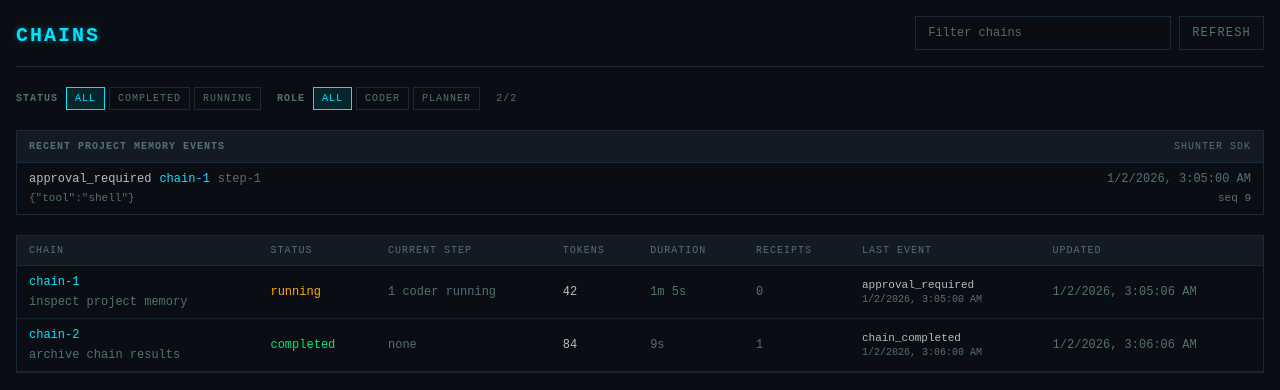
Test: ChainsPage › filters chain rows by status
Check: the text "inspect project memory" is shown, box [29,295,187,309]
Check: the text "archive chain results" is shown, box [29,348,180,362]
Click the button "completed" at coordinates (150, 99), box [109,87,190,110]
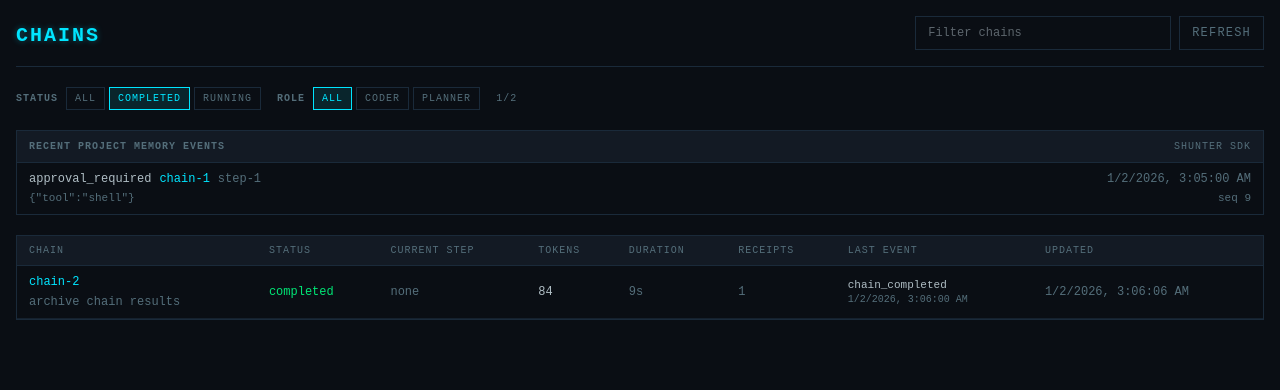
Check: the text "archive chain results" is shown, box [29,295,180,309]
Check: the text "inspect project memory" is not shown
